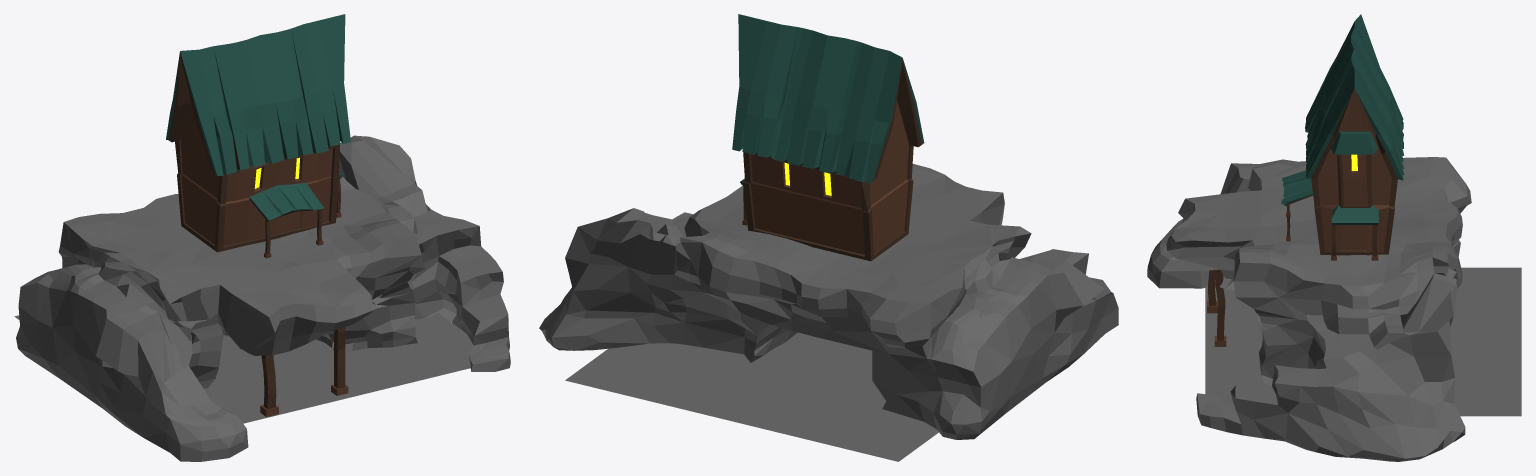
The model's file is Alone.fbx.
The picture shows the model from 3 angles, left to right: view 1: azimuth 30°, elevation 25°; view 2: azimuth 150°, elevation 25°; view 3: azimuth 270°, elevation 25°; orthographic projection. The views are drawn at different scales.
Visible parts, largest first — view 1: Cube.001, Cube, Plane; view 2: Cube.001, Cube, Plane; view 3: Cube.001, Cube, Plane.
Boxes of the visible parts, box(x1,y1,x2,y2) form: Cube.001: box(16, 135, 510, 461); Cube: box(166, 14, 350, 416); Plane: box(14, 312, 472, 423); Cube.001: box(539, 164, 1118, 439); Cube: box(732, 14, 924, 261); Plane: box(565, 332, 938, 461); Cube.001: box(1147, 157, 1471, 461); Cube: box(1207, 14, 1404, 346); Plane: box(1205, 267, 1521, 416).
Bounding box in the file's own units: 981 × 673 × 746.
